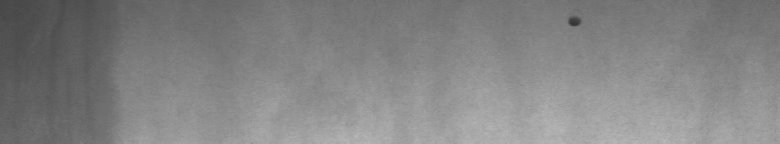fi: (564, 11, 584, 34)
